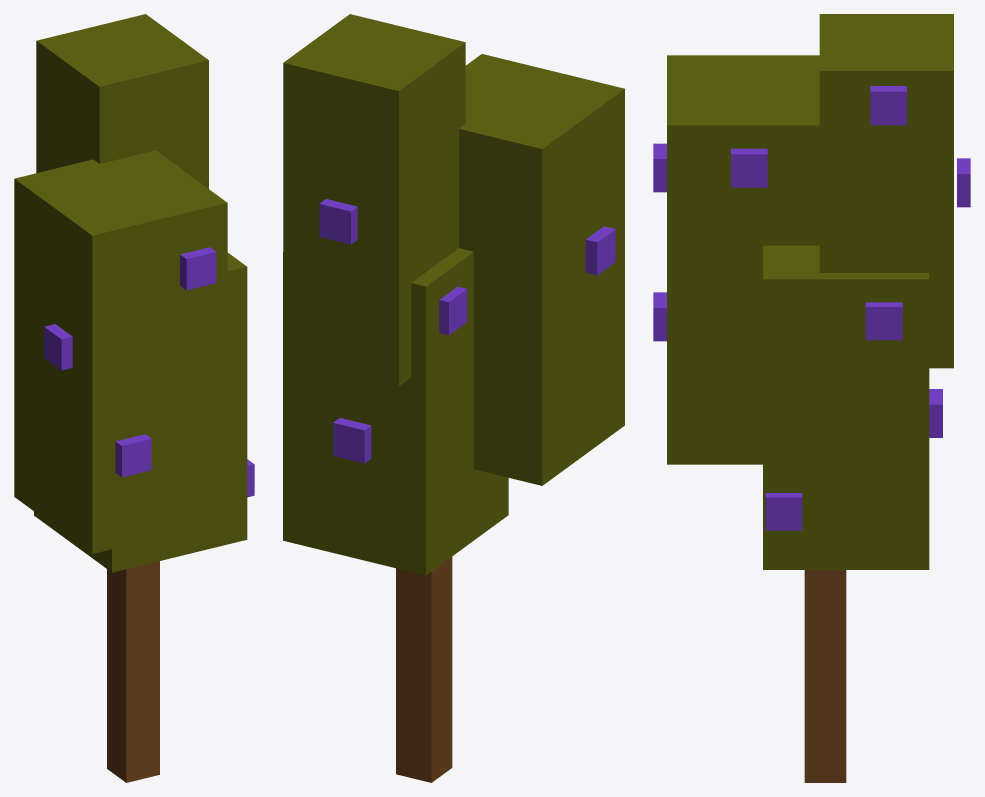
Rendered from HightWood2.fbx.
3 renders of one model, left to right at view 1: azimuth 30°, elevation 25°; view 2: azimuth 150°, elevation 25°; view 3: azimuth 270°, elevation 25°, orthographic. The views are drawn at different scales.
Parts seen in each view (by area): view 1: Cube.012; view 2: Cube.012; view 3: Cube.012.
Part boxes in pixels (bbox=[...]): Cube.012: bbox=[14, 14, 254, 782]; Cube.012: bbox=[283, 14, 624, 782]; Cube.012: bbox=[653, 14, 970, 782].
Size of the model in its own units: 3446 by 10435 by 4051.
